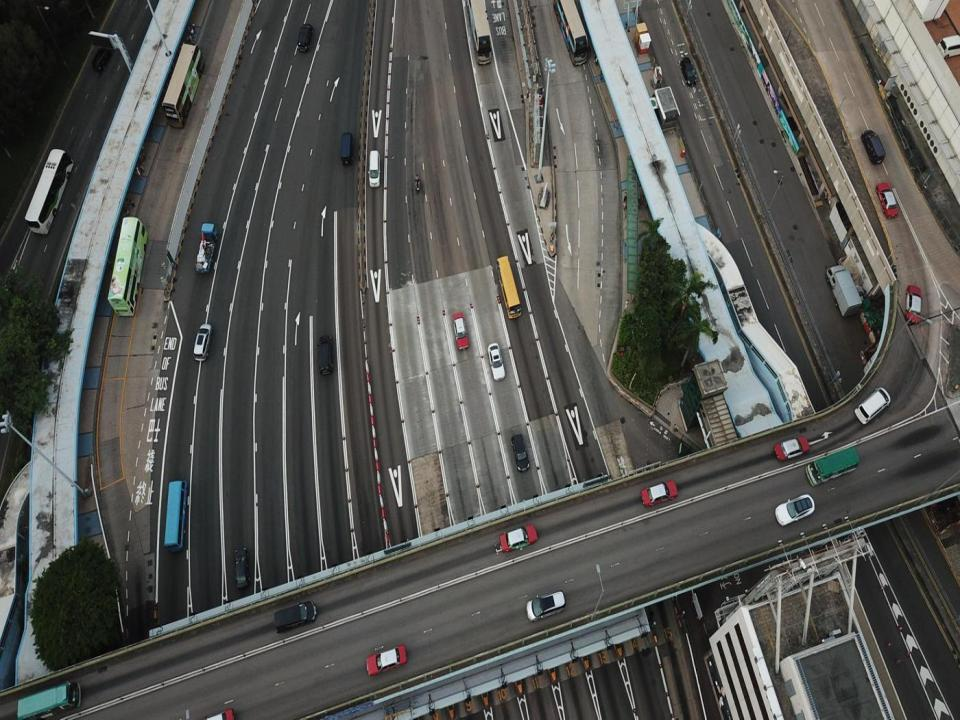bus: (25, 149, 74, 236), (108, 217, 148, 316), (162, 41, 204, 127), (17, 681, 80, 719), (552, 0, 588, 66), (805, 446, 859, 486), (163, 480, 187, 552), (495, 255, 521, 319), (467, 0, 492, 64)
car: (366, 644, 406, 676), (774, 494, 815, 524), (499, 524, 538, 552), (641, 481, 678, 507), (774, 436, 809, 460), (876, 182, 898, 217), (234, 548, 250, 590), (488, 342, 505, 381), (452, 312, 468, 350), (680, 57, 696, 86)
truck: (826, 265, 862, 317), (193, 222, 218, 272)
van: (274, 600, 316, 634), (854, 387, 890, 424), (526, 588, 565, 622), (861, 130, 886, 164), (193, 323, 212, 362), (904, 285, 923, 323), (511, 433, 528, 472), (92, 44, 114, 71), (318, 334, 332, 374), (367, 150, 380, 187), (340, 132, 354, 166), (297, 23, 313, 51)
